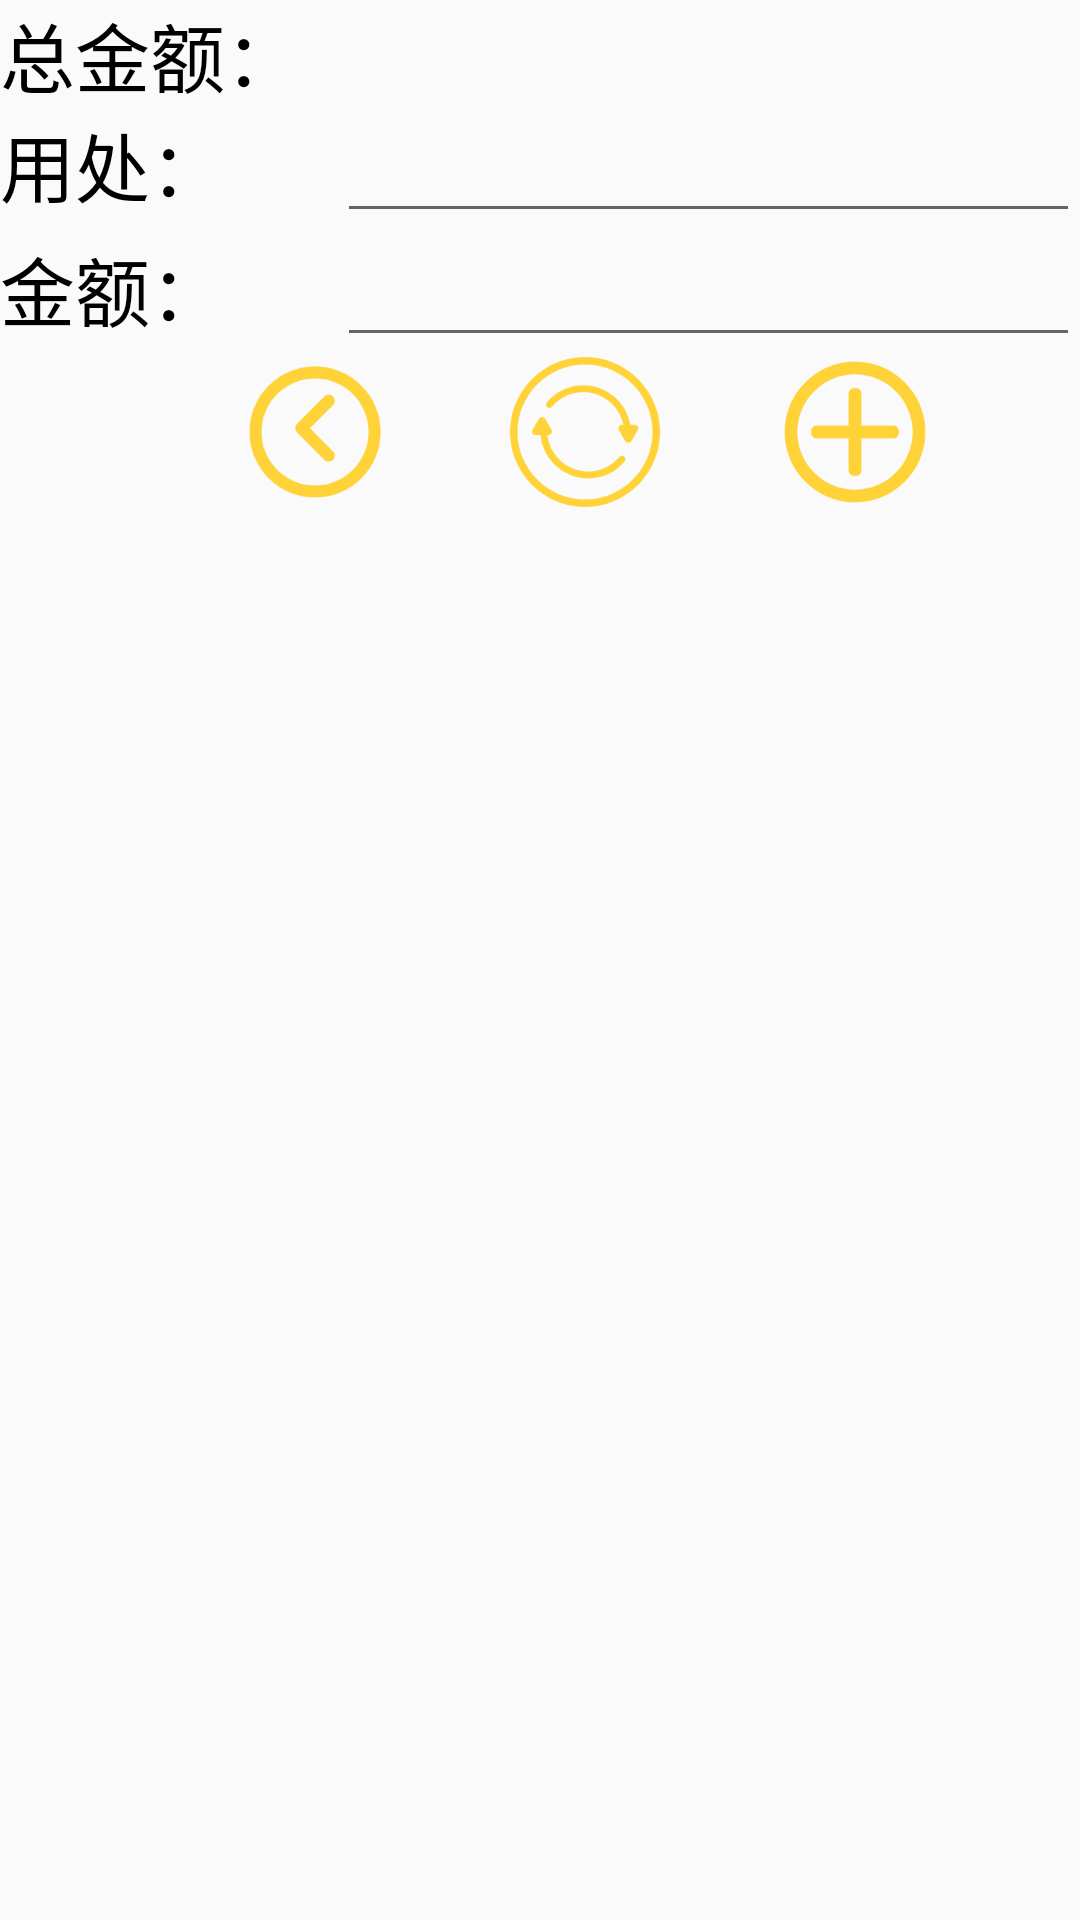

Where icons sit on this 1080px x 1920px app screen, as (x1, y1, x2, y2):
return login: (249, 366, 381, 498)
